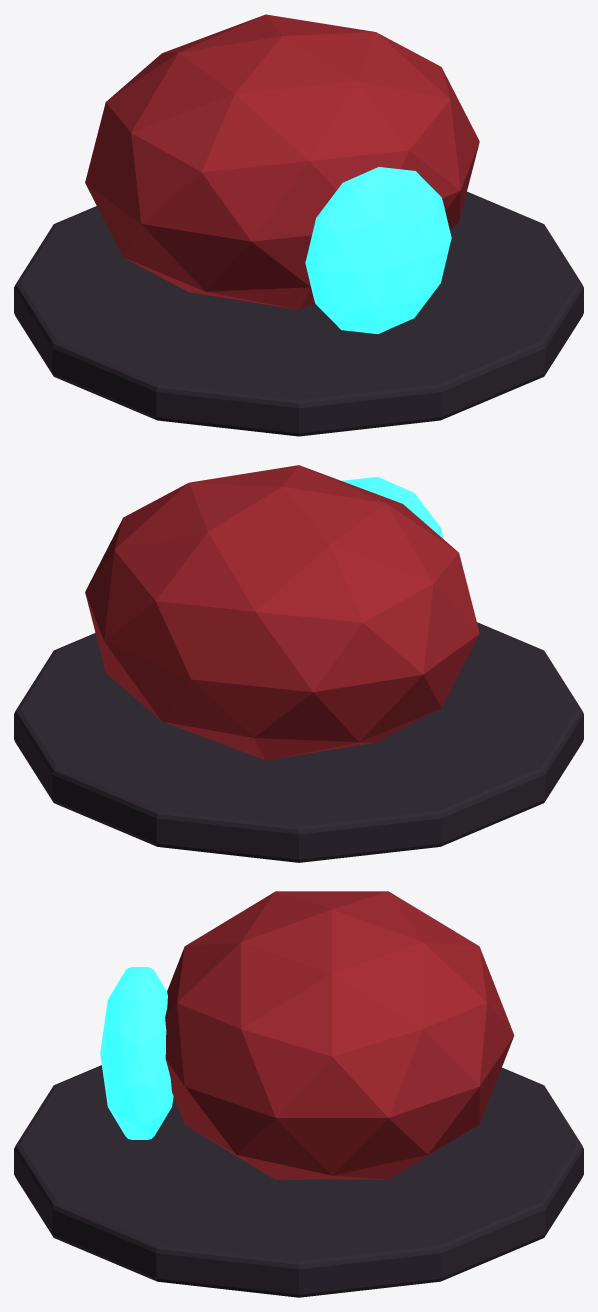
The model's file is alien_barracks.glb.
The picture shows the model from 3 angles, top to bottom: view 1: azimuth 30°, elevation 25°; view 2: azimuth 150°, elevation 25°; view 3: azimuth 270°, elevation 25°; orthographic projection.
Visible parts, largest first — view 1: Foundation, BroodHall, Gate; view 2: BroodHall, Foundation, Gate; view 3: BroodHall, Foundation, Gate.
Part boxes in pixels (x1,y1,x2,y2): Foundation: [14, 191, 583, 436]; BroodHall: [85, 14, 479, 309]; Gate: [305, 167, 451, 333]; BroodHall: [85, 465, 479, 760]; Foundation: [14, 622, 583, 862]; Gate: [342, 477, 443, 538]; BroodHall: [165, 891, 514, 1179]; Foundation: [14, 1065, 583, 1297]; Gate: [100, 967, 173, 1139].
Size of the model in its own units: 1.72 by 0.9 by 1.72.
